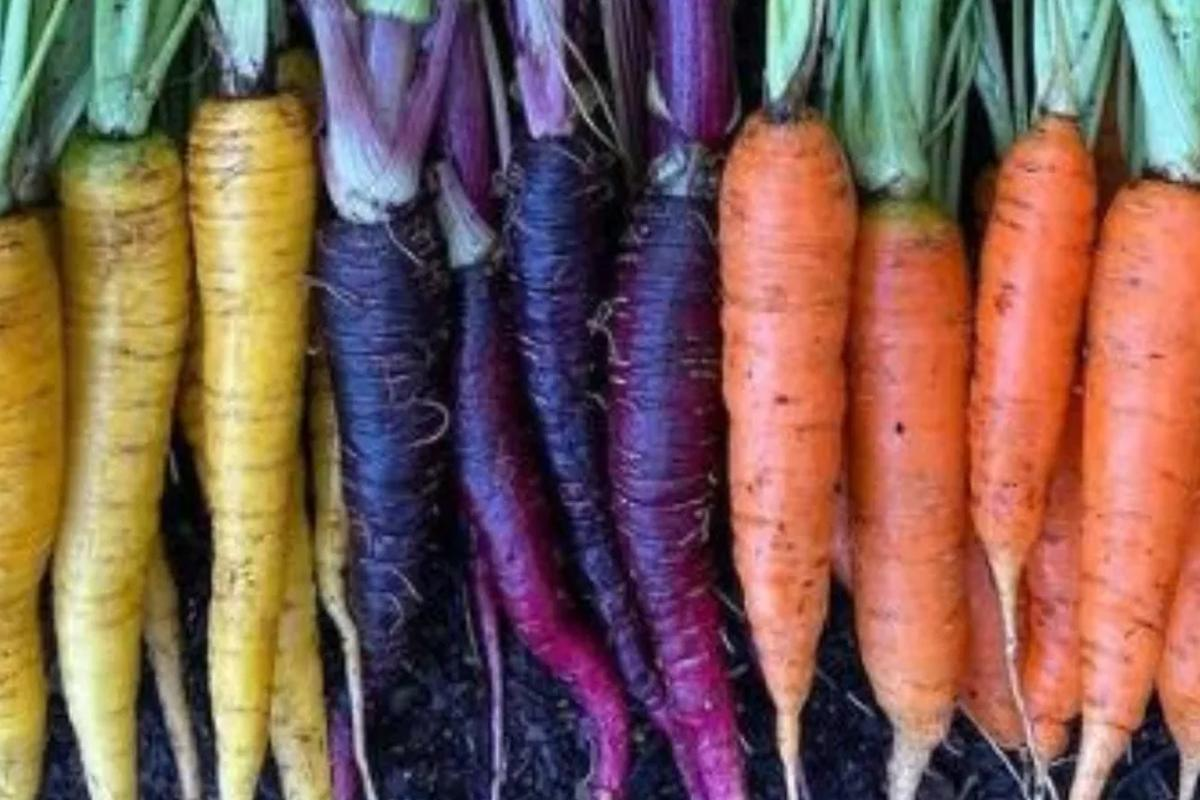carrot: (743, 0, 1200, 800), (1025, 181, 1200, 800), (832, 183, 1004, 800), (965, 110, 1109, 800), (727, 110, 852, 800)
